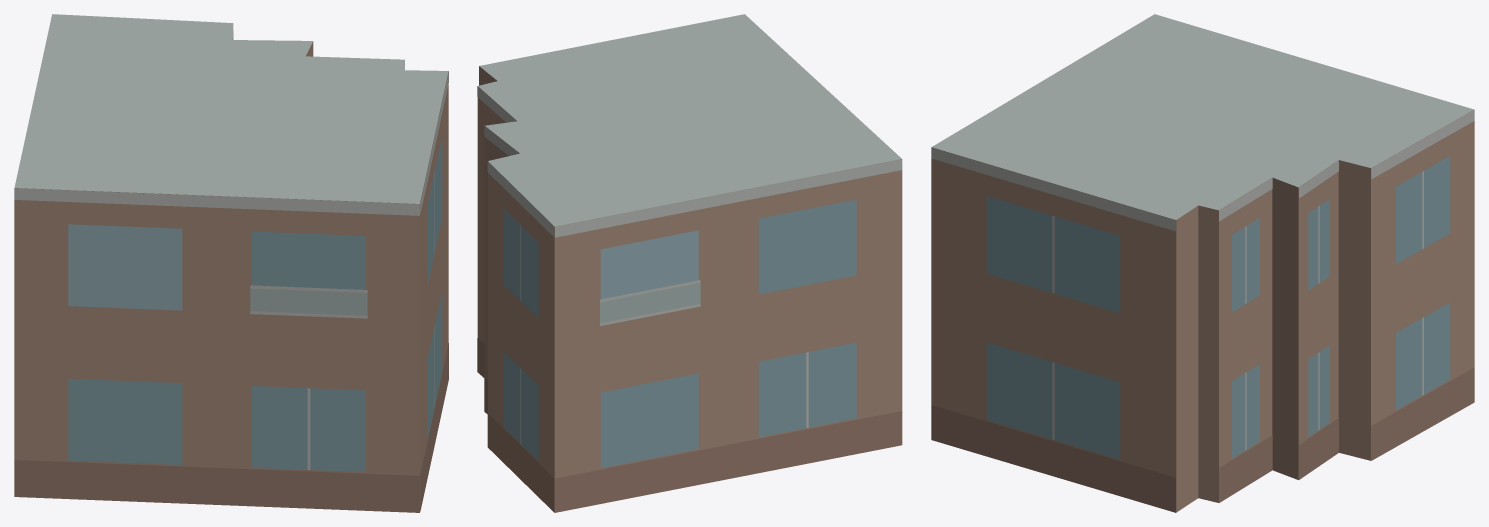
Rendered from survey-upis-32614033.glb.
3 renders of one model, left to right at view 1: azimuth 30°, elevation 25°; view 2: azimuth 150°, elevation 25°; view 3: azimuth 270°, elevation 25°, orthographic. The views are drawn at different scales.
Parts seen in each view (by area): view 1: survey-upis-32614033.tmp; view 2: survey-upis-32614033.tmp; view 3: survey-upis-32614033.tmp.
Part boxes in pixels (bbox=[...]): survey-upis-32614033.tmp: bbox=[14, 14, 448, 512]; survey-upis-32614033.tmp: bbox=[477, 14, 902, 512]; survey-upis-32614033.tmp: bbox=[931, 14, 1474, 512].
Bounding box in the file's own units: 9.52 × 6.3 × 10.6.
